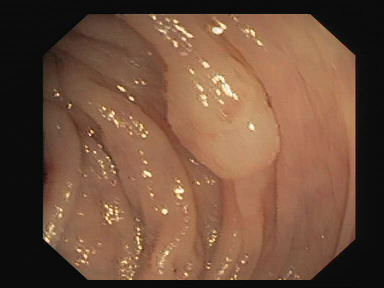polyp: (140, 49, 304, 187)
